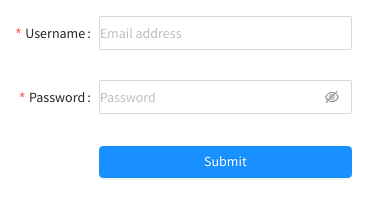
Test: should validate password
Click the button at (225, 162), box x1=99 y1=146 x2=352 y2=178
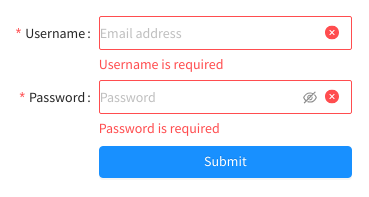
expect the text "Password is required" is shown: met, box x1=99 y1=119 x2=220 y2=137
